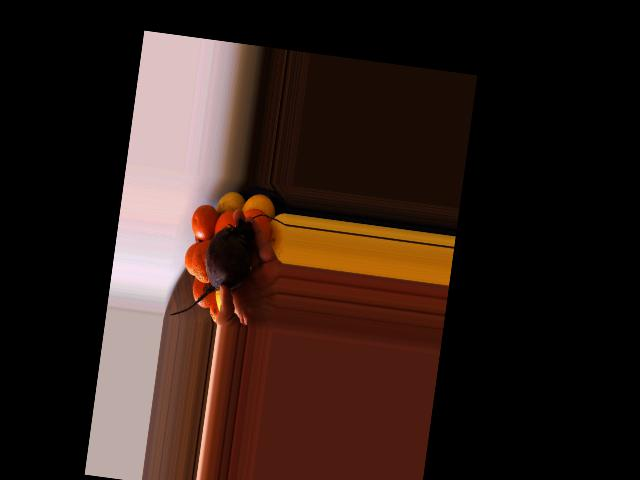beet: (170, 212, 257, 324)
